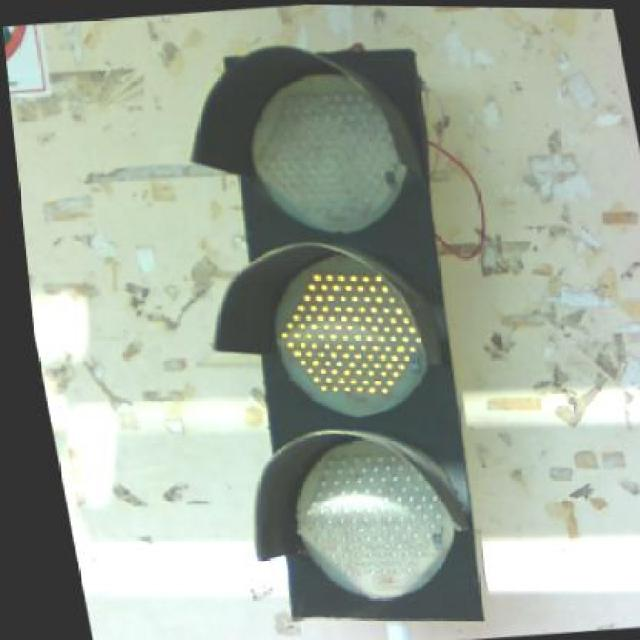yellow_light: (160, 38, 508, 633)
